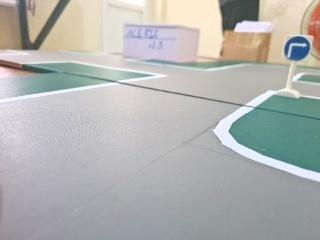right: (277, 30, 317, 66)
